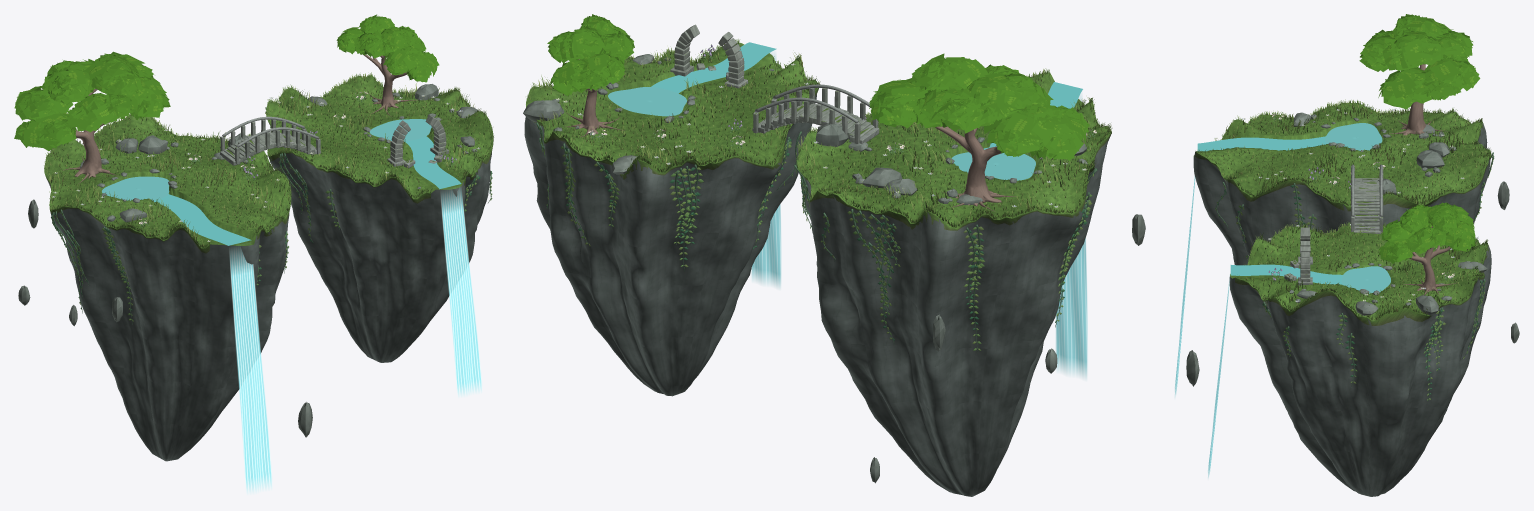
File: song-dinh.glb
3 views of the same model, side by side, from view 1: azimuth 30°, elevation 25°; view 2: azimuth 150°, elevation 25°; view 3: azimuth 270°, elevation 25° (orthographic). The views are drawn at different scales.
Parts seen in each view (by area): view 1: West peak Cliff, East peak Cliff, West peak Ground, East peak Ground, West peak tree canopy, West peak fall, East peak fall, West peak low meadow blades, East peak tree canopy, East peak low meadow blades, West peak high meadow blades, East peak high meadow blades (+15 smaller); view 2: West peak Cliff, East peak Cliff, East peak Ground, West peak Ground, West peak tree canopy, East peak tree canopy, East peak low meadow blades, West peak low meadow blades, West peak fall, West peak botanical vine leaves, East peak botanical vine leaves, West peak trailing vine stems (+15 smaller); view 3: East peak Cliff, West peak Ground, East peak Ground, West peak Cliff, West peak tree canopy, East peak tree canopy, West peak low meadow blades, East peak low meadow blades, West peak high meadow blades, West peak rim meadow blades, West peak winding river, East peak irregular turf rim (+14 smaller).
Part boxes in pixels (x1,y1,x2,y2): West peak Cliff: (47, 150, 289, 461); East peak Cliff: (269, 125, 491, 362); West peak Ground: (44, 115, 291, 248); East peak Ground: (266, 75, 493, 199); West peak tree canopy: (14, 51, 170, 151); West peak fall: (230, 248, 272, 492); East peak fall: (441, 189, 481, 396); West peak low meadow blades: (45, 116, 291, 247); East peak tree canopy: (336, 14, 439, 82); East peak low meadow blades: (265, 73, 493, 195); West peak high meadow blades: (49, 118, 290, 245); East peak high meadow blades: (277, 83, 478, 190); West peak Cliff: (801, 134, 1111, 496); East peak Cliff: (524, 94, 816, 396); East peak Ground: (526, 43, 819, 173); West peak Ground: (797, 72, 1111, 228); West peak tree canopy: (869, 53, 1089, 160); East peak tree canopy: (547, 14, 634, 95); East peak low meadow blades: (528, 43, 819, 171); West peak low meadow blades: (797, 71, 1110, 226); West peak fall: (1055, 95, 1087, 378); West peak botanical vine leaves: (796, 169, 1094, 350); East peak botanical vine leaves: (537, 126, 800, 267); West peak trailing vine stems: (793, 165, 1097, 351); East peak Cliff: (1229, 246, 1491, 496); West peak Ground: (1193, 103, 1491, 207); East peak Ground: (1230, 225, 1487, 321); West peak Cliff: (1193, 123, 1490, 265); West peak tree canopy: (1359, 14, 1480, 109); East peak tree canopy: (1378, 202, 1475, 264); West peak low meadow blades: (1200, 100, 1489, 205); East peak low meadow blades: (1239, 224, 1484, 320); West peak high meadow blades: (1226, 103, 1474, 204); West peak rim meadow blades: (1196, 99, 1491, 205); West peak winding river: (1197, 136, 1326, 151); East peak irregular turf rim: (1235, 244, 1489, 325).
Bounding box in the file's own units: 40.93 × 33.48 × 27.96.
10 materials, 6 textured.
